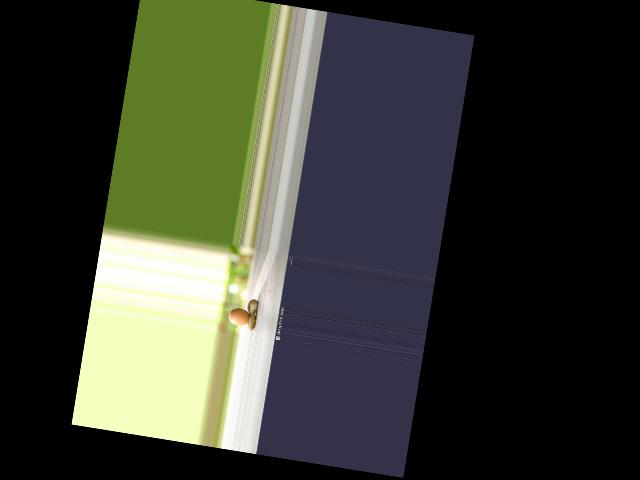egg: (227, 306, 251, 327)
